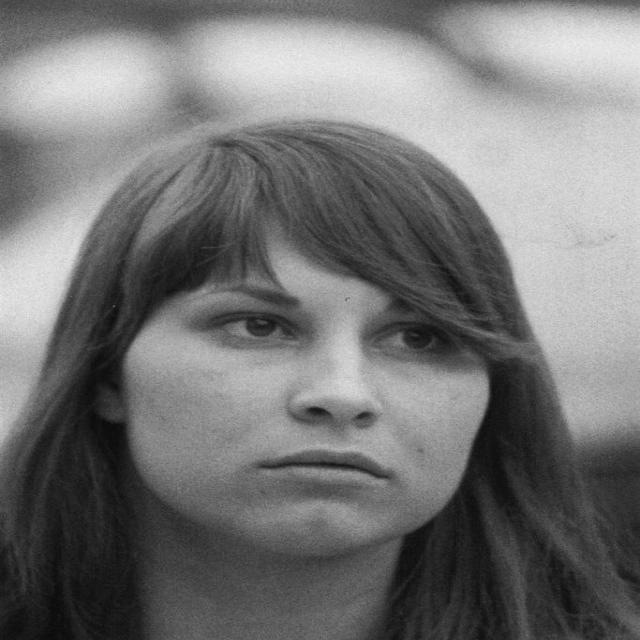no-glass: (200, 308, 450, 356)
